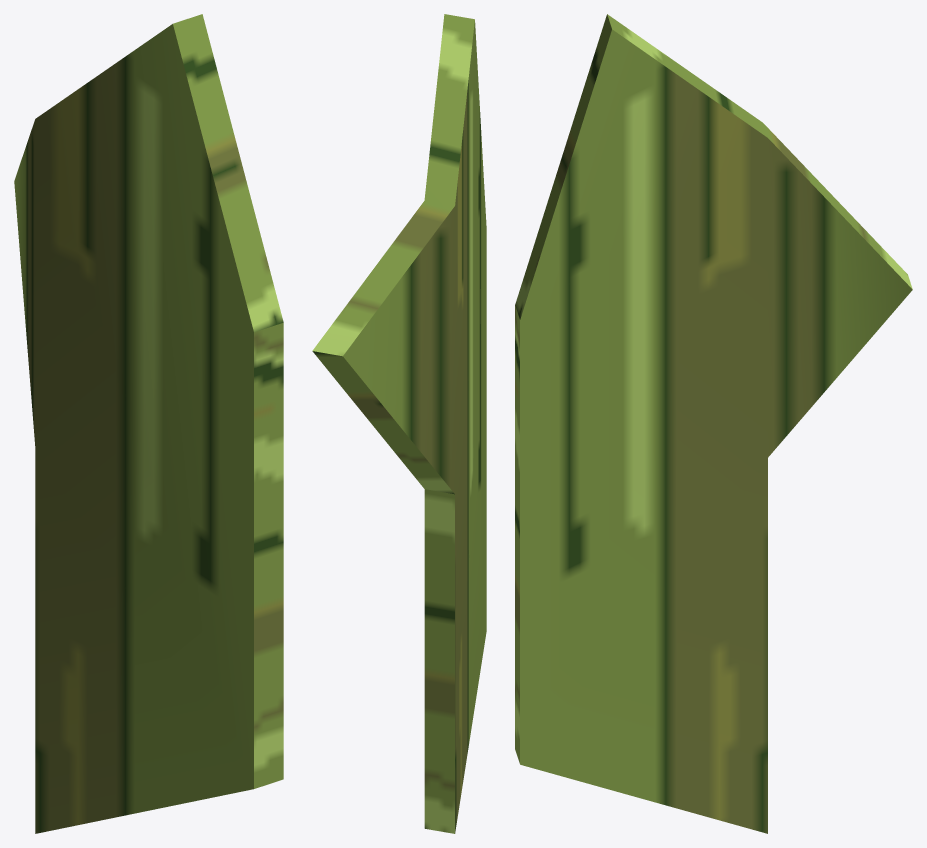
The model's file is b_gib_01.glb.
The picture shows the model from 3 angles, left to right: view 1: azimuth 30°, elevation 25°; view 2: azimuth 150°, elevation 25°; view 3: azimuth 270°, elevation 25°; orthographic projection. The views are drawn at different scales.
Parts seen in each view (by area): view 1: gib#04; view 2: gib#04; view 3: gib#04.
Part boxes in pixels (left/top/right/bottom): gib#04: left=14, top=14, right=283, bottom=833; gib#04: left=312, top=14, right=486, bottom=833; gib#04: left=515, top=14, right=912, bottom=833.
Bounding box in the file's own units: 0.0804 × 0.5314 × 0.2302.
1 material, 1 textured.
